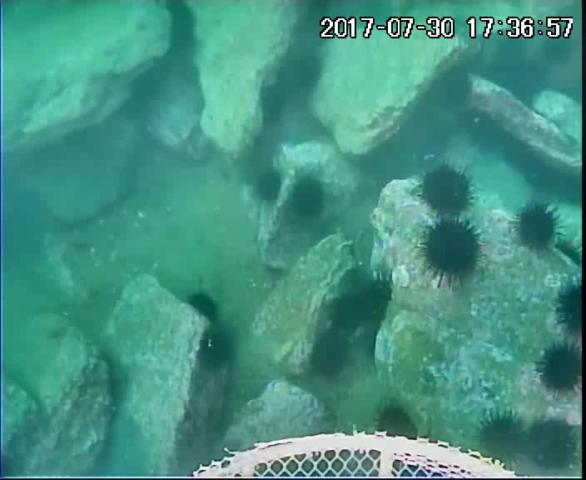echinus: (417, 216, 487, 283), (525, 419, 581, 476), (477, 411, 532, 465), (423, 167, 478, 220), (538, 341, 586, 401), (194, 326, 241, 375), (516, 202, 560, 254), (373, 401, 420, 446), (309, 334, 353, 380), (277, 48, 320, 93), (289, 175, 327, 225), (330, 292, 370, 337), (468, 109, 510, 151), (555, 279, 586, 334), (438, 65, 473, 113), (542, 28, 584, 66), (509, 60, 547, 99), (259, 80, 287, 131), (490, 36, 528, 73), (254, 166, 286, 206), (502, 136, 539, 169), (190, 291, 222, 325), (527, 160, 558, 191), (559, 235, 580, 274)
